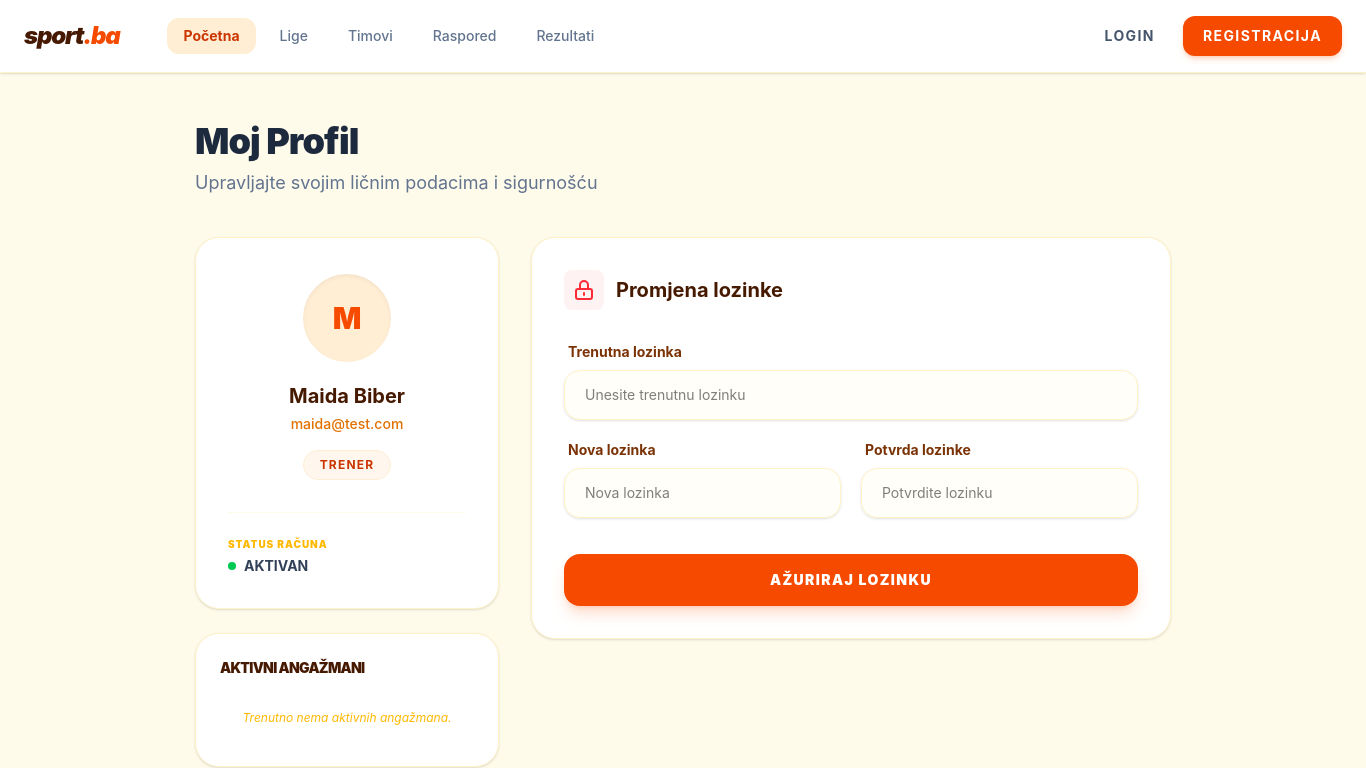
it: FRONTEND TEST: Profile Komponenta (Maida) › Prikazuje grešku na ekranu ako se lozinke ne podudaraju
Expected: the heading "Moj Profil" is shown, [195, 119, 358, 163]
# Simuliramo kucanje u polja
In the password field with placeholder "Nova lozinka": (702, 493) [564, 468, 841, 518], type "sifra1"
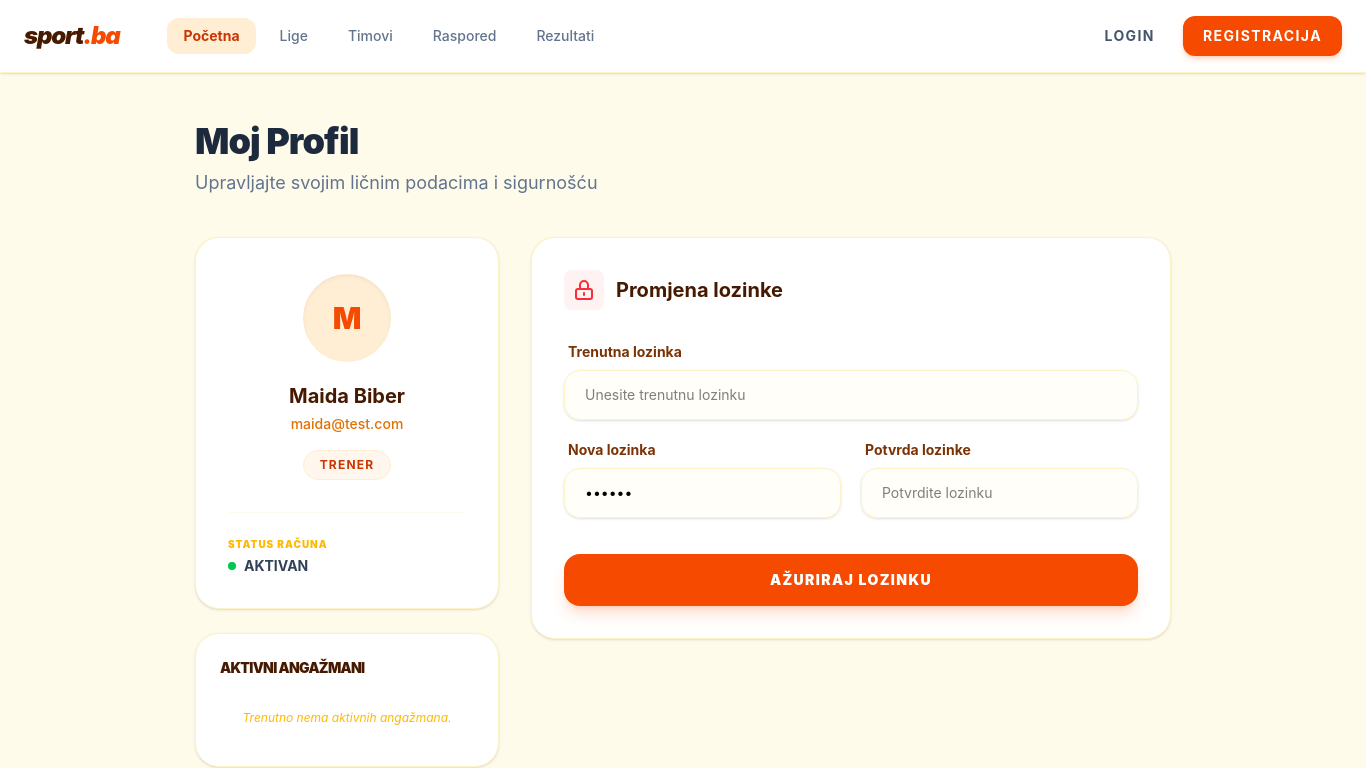
In the password field with placeholder "Potvrdite lozinku": (1000, 493) [861, 468, 1138, 518], type "sifra2"
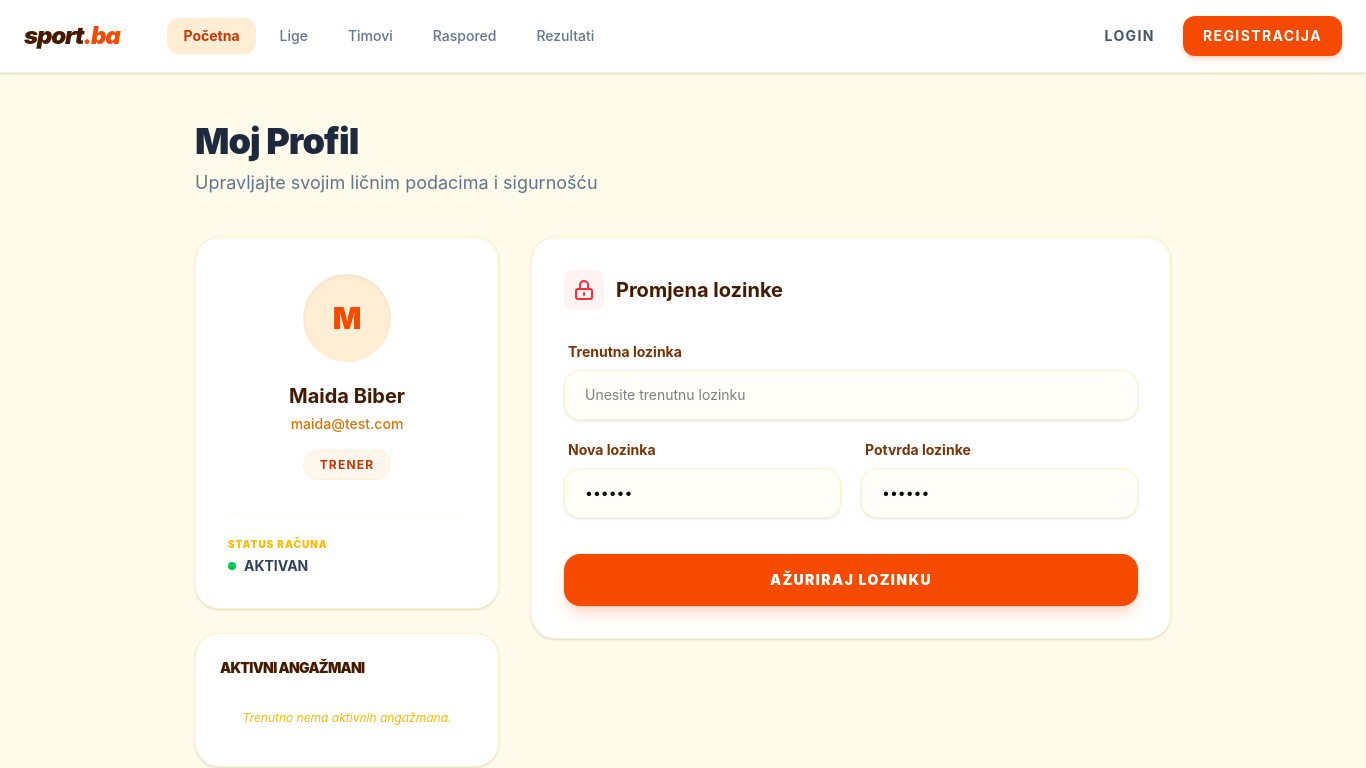
# Kliknemo dugme
Click the button "Ažuriraj lozinku": (851, 580) [564, 554, 1138, 606]
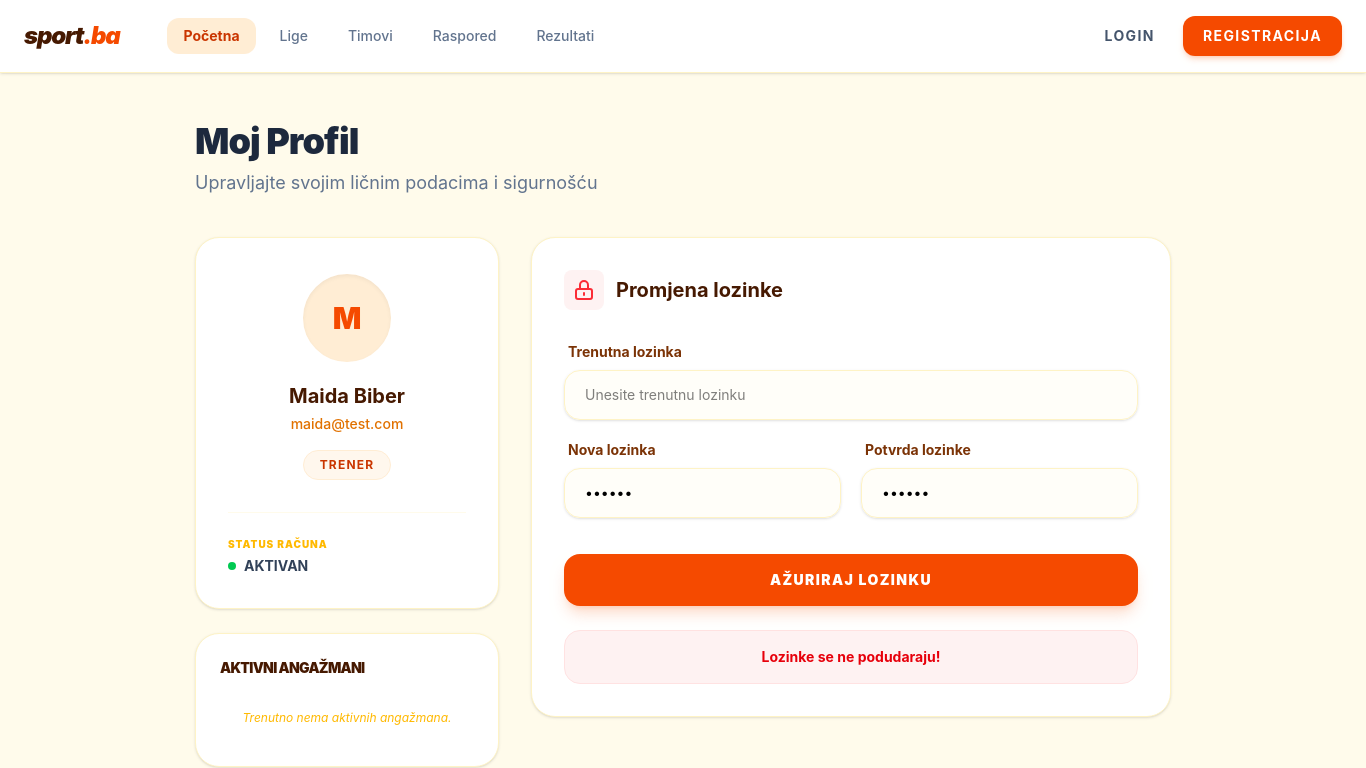
Now the text "Lozinke se ne podudaraju!" is shown, box [564, 630, 1138, 684]
